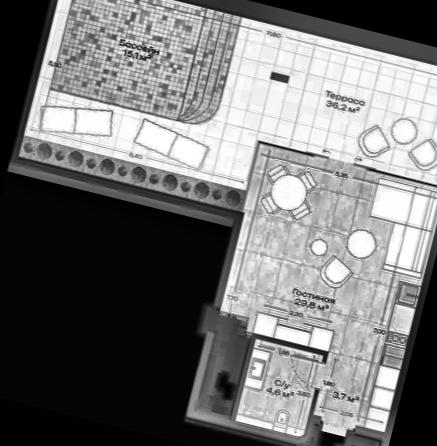door: (280, 351, 328, 392)
